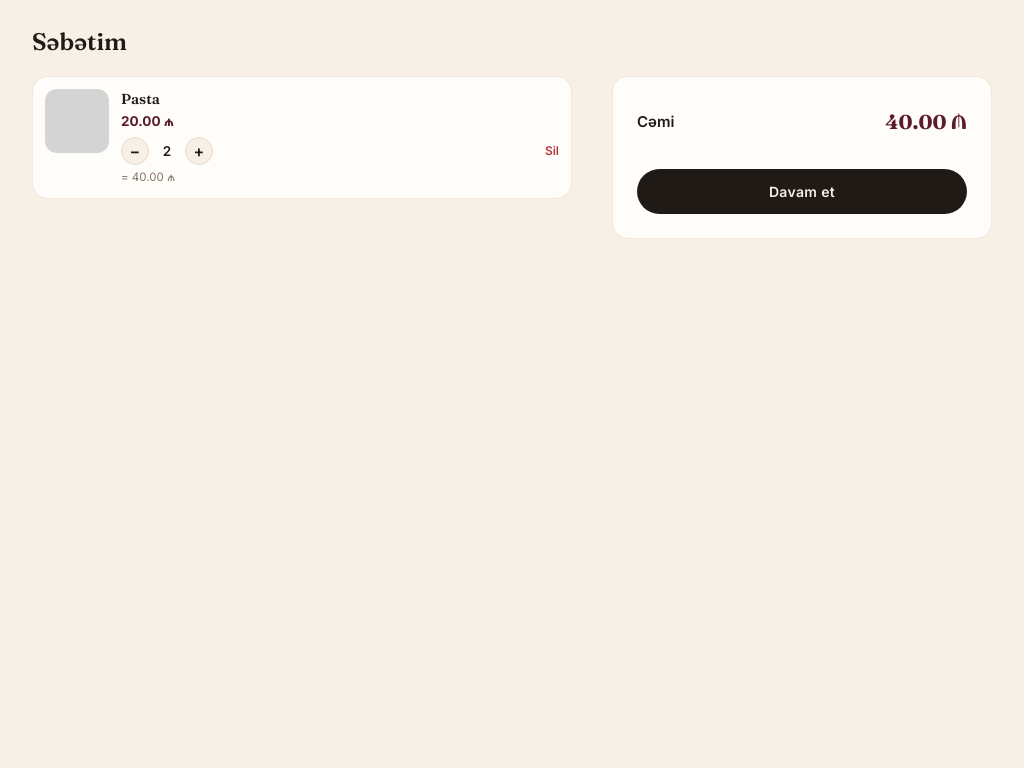
Cart › formu doldurub təsdiq modalını açır
This screenshot has width=1024, height=768.
Click the button "Davam et" at (802, 192), box [637, 169, 967, 214]
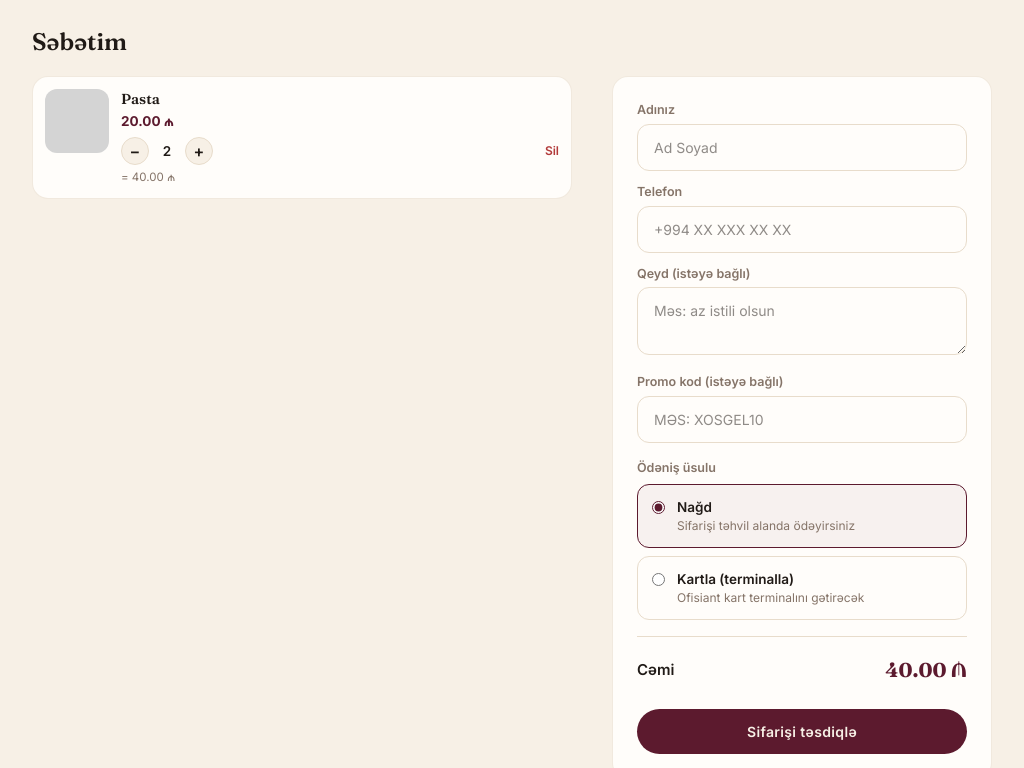
Type "Ali" into the field with placeholder "Ad Soyad" at (802, 147), box [637, 124, 967, 171]
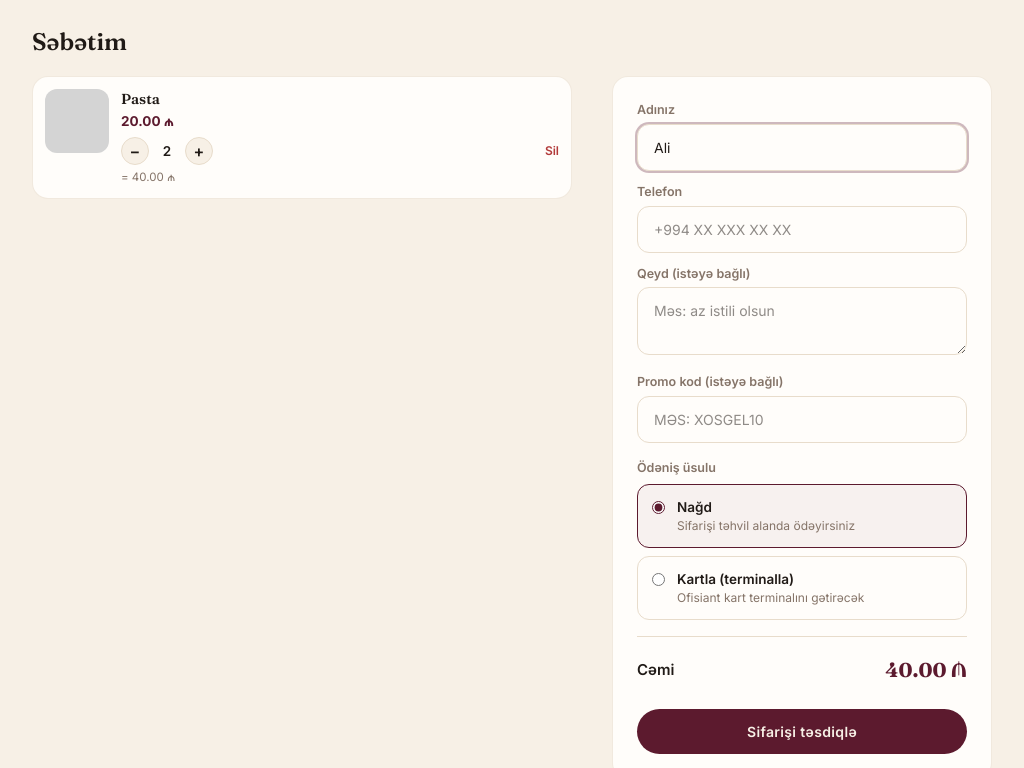
Type "+994501112233" into the field with placeholder "+994 XX XXX XX XX" at (802, 229), box [637, 206, 967, 252]
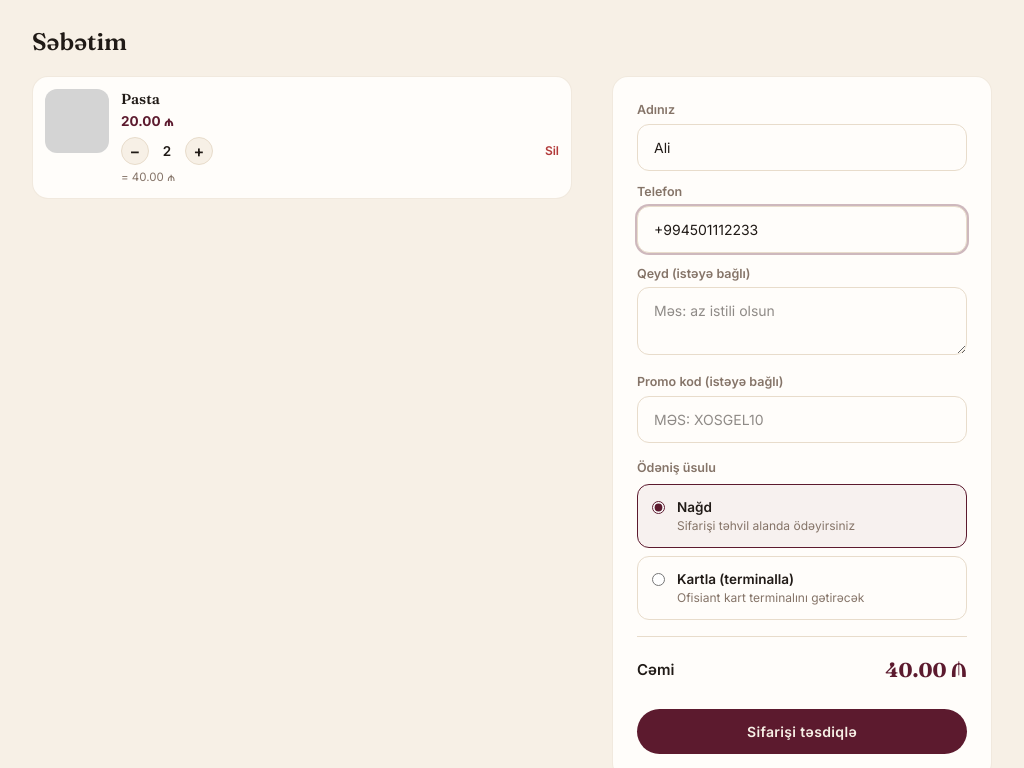
Click the button "Sifarişi təsdiqlə" at (802, 732), box [637, 709, 967, 754]
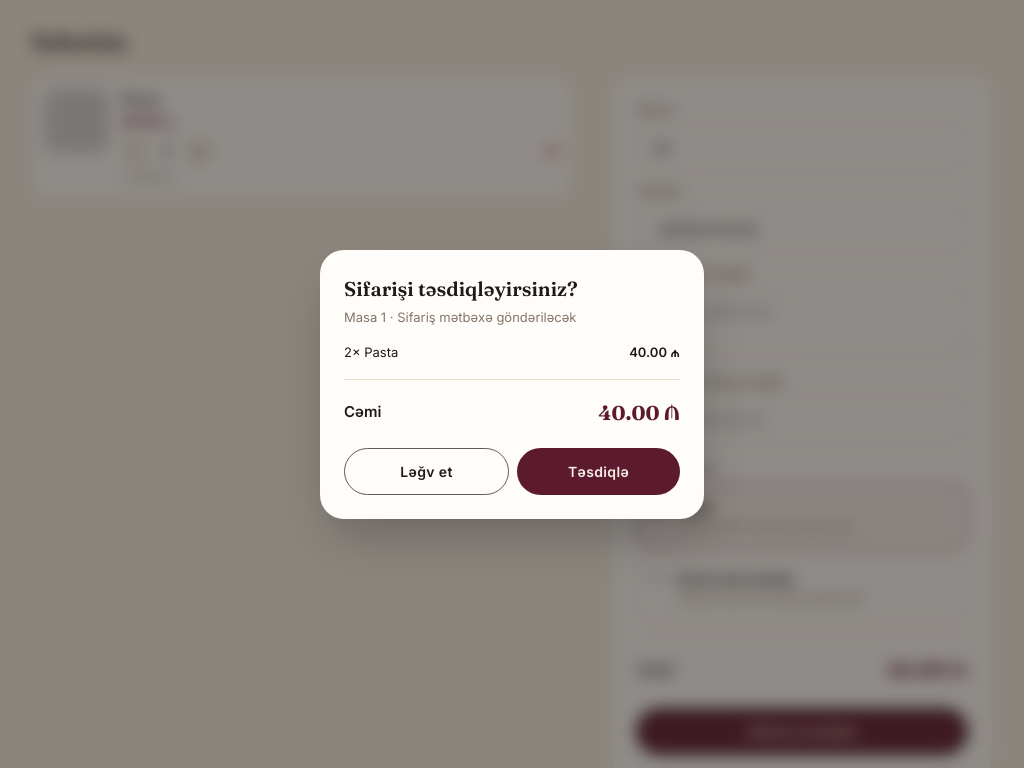
Check: the heading "Sifarişi təsdiqləyirsiniz?" is shown, box [344, 276, 578, 300]
